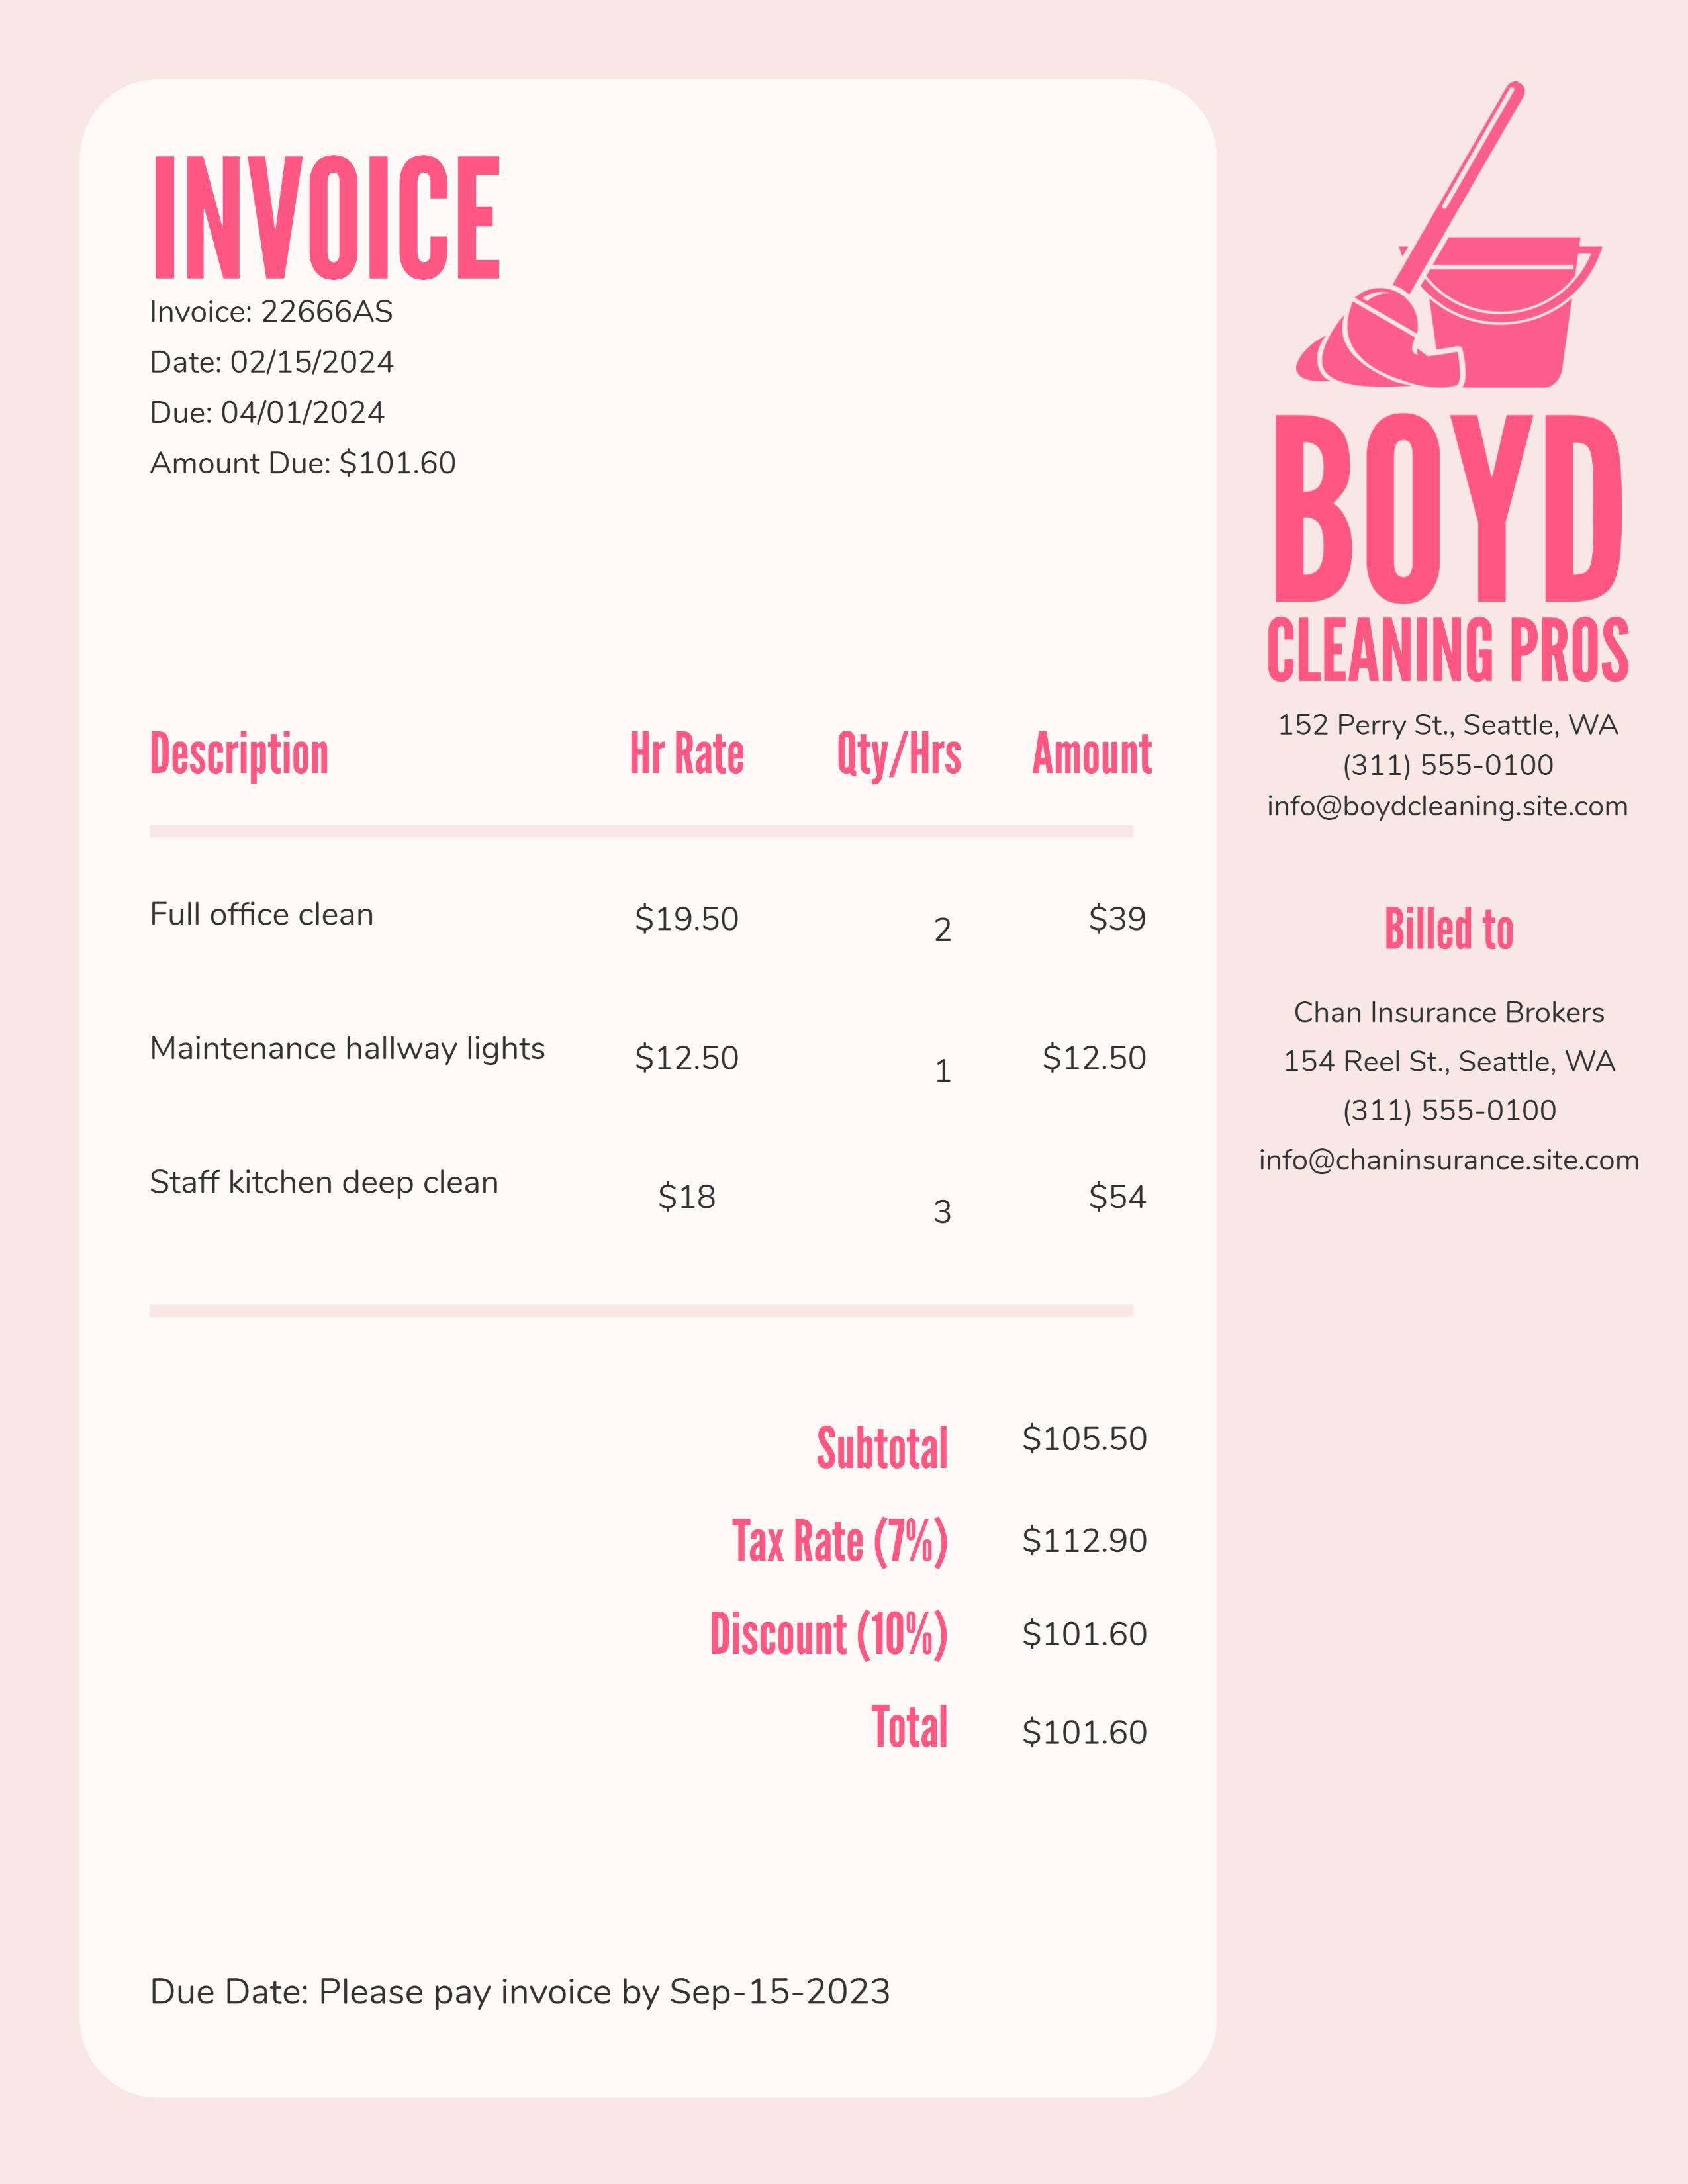ROI: (142, 725, 1158, 1231), (702, 1393, 1165, 1767), (1260, 408, 1635, 829), (1258, 898, 1646, 1178), (139, 295, 483, 496), (139, 1962, 900, 2022)
